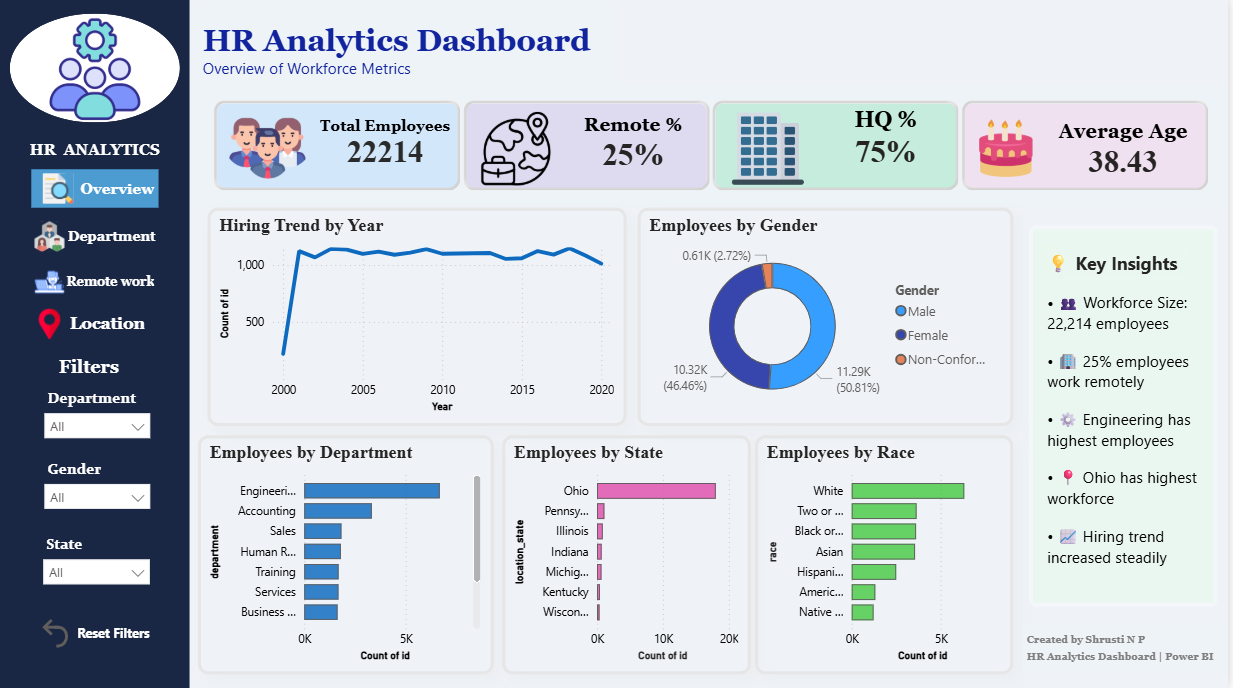

This screenshot's page, from the dashboard's own definition file:
{"tool":"powerbi","page":{"name":"Page 1","canvas":[1283,720],"ordinal":0},"visuals":[{"type":"cardVisual","fields":{"Data":["project_hr_analytics HR.Total Employees","project_hr_analytics HR.Remote %","project_hr_analytics HR.HQ %","project_hr_analytics HR.Average Age"]},"box":[207.5,90,1072.5,128.8],"z":0},{"type":"lineChart","title":"Hiring Trend by Year","fields":{"Category":["project_hr_analytics HR.hire_date.Variation.Date Hierarchy.Year1"],"Y":["CountNonNull(project_hr_analytics HR.id)"]},"box":[217.5,218.8,437.5,227.5],"z":1000},{"type":"donutChart","title":"Employees by Gender","fields":{"Category":["project_hr_analytics HR.gender"],"Y":["CountNonNull(project_hr_analytics HR.id)"]},"box":[666.2,218.8,392.5,227.5],"z":2000},{"type":"barChart","title":"Employees by Department","fields":{"Category":["project_hr_analytics HR.department"],"Y":["CountNonNull(project_hr_analytics HR.id)"]},"box":[207.5,456.2,308.8,250],"z":3000},{"type":"barChart","title":"Employees by State","fields":{"Category":["project_hr_analytics HR.location_state"],"Y":["CountNonNull(project_hr_analytics HR.id)"]},"box":[525,456.2,260,250],"z":4000},{"type":"barChart","title":"Employees by Race","fields":{"Category":["project_hr_analytics HR.race"],"Y":["CountNonNull(project_hr_analytics HR.id)"]},"box":[788.8,456.2,270,250],"z":5000},{"type":"textbox","box":[207.5,3.8,433.8,86.2],"z":6000},{"type":"shape","box":[1075,237.5,196.2,397.5],"z":7000},{"type":"textbox","box":[1087.5,258.8,152.5,35],"z":8000},{"type":"textbox","box":[1088.8,301.2,172.5,310],"z":9000},{"type":"shape","box":[0,0,198.8,720],"z":10000},{"type":"shape","box":[11.2,16.2,177.5,113.8],"z":11000},{"type":"image","box":[33.8,18.8,132.5,111.2],"z":12000},{"type":"textbox","box":[11.2,130,177.5,48.8],"z":13000},{"type":"actionButton","box":[33.8,178.8,132.5,40],"z":14000},{"type":"actionButton","box":[25,228.8,142.5,40],"z":15000},{"type":"actionButton","box":[25,320,131.2,40],"z":16000},{"type":"actionButton","box":[25,276.2,141.2,40],"z":17000},{"type":"actionButton","box":[38.8,642.5,122.5,40],"z":18000},{"type":"slicer","fields":{"Values":["project_hr_analytics HR.gender"]},"box":[37.5,476.2,130,68.8],"z":19000},{"type":"slicer","fields":{"Values":["project_hr_analytics HR.department"]},"box":[37.5,402.5,130,67.5],"z":20000},{"type":"slicer","fields":{"Values":["project_hr_analytics HR.location_state"]},"box":[36.2,555,131.2,68.8],"z":21000},{"type":"textbox","box":[46.2,368.8,95,33.8],"z":22000},{"type":"textbox","box":[1067.5,653.8,212.5,52.5],"z":23000}]}

Visuals, with their boxes in screenshot pixels (x1, y1, x2, y2), scaled from the page's 1283x720 canvas onto the 1233x688 screenshot:
cardVisual - project_hr_analytics HR.Total Employees x project_hr_analytics HR.Remote %: left=199, top=86, right=1230, bottom=209
"Hiring Trend by Year" lineChart: left=209, top=209, right=629, bottom=426
"Employees by Gender" donutChart: left=640, top=209, right=1017, bottom=426
"Employees by Department" barChart: left=199, top=436, right=496, bottom=675
"Employees by State" barChart: left=505, top=436, right=754, bottom=675
"Employees by Race" barChart: left=758, top=436, right=1018, bottom=675
textbox: left=199, top=4, right=616, bottom=86
shape: left=1033, top=227, right=1222, bottom=607
textbox: left=1045, top=247, right=1192, bottom=281
textbox: left=1046, top=288, right=1212, bottom=584
shape: left=0, top=0, right=191, bottom=687
shape: left=11, top=15, right=181, bottom=124
image: left=32, top=18, right=160, bottom=124
textbox: left=11, top=124, right=181, bottom=171
actionButton: left=32, top=171, right=160, bottom=209
actionButton: left=24, top=219, right=161, bottom=257
actionButton: left=24, top=306, right=150, bottom=344
actionButton: left=24, top=264, right=160, bottom=302
actionButton: left=37, top=614, right=155, bottom=652
slicer - project_hr_analytics HR.gender: left=36, top=455, right=161, bottom=521
slicer - project_hr_analytics HR.department: left=36, top=385, right=161, bottom=449
slicer - project_hr_analytics HR.location_state: left=35, top=530, right=161, bottom=596
textbox: left=44, top=352, right=136, bottom=385
textbox: left=1026, top=625, right=1230, bottom=675
